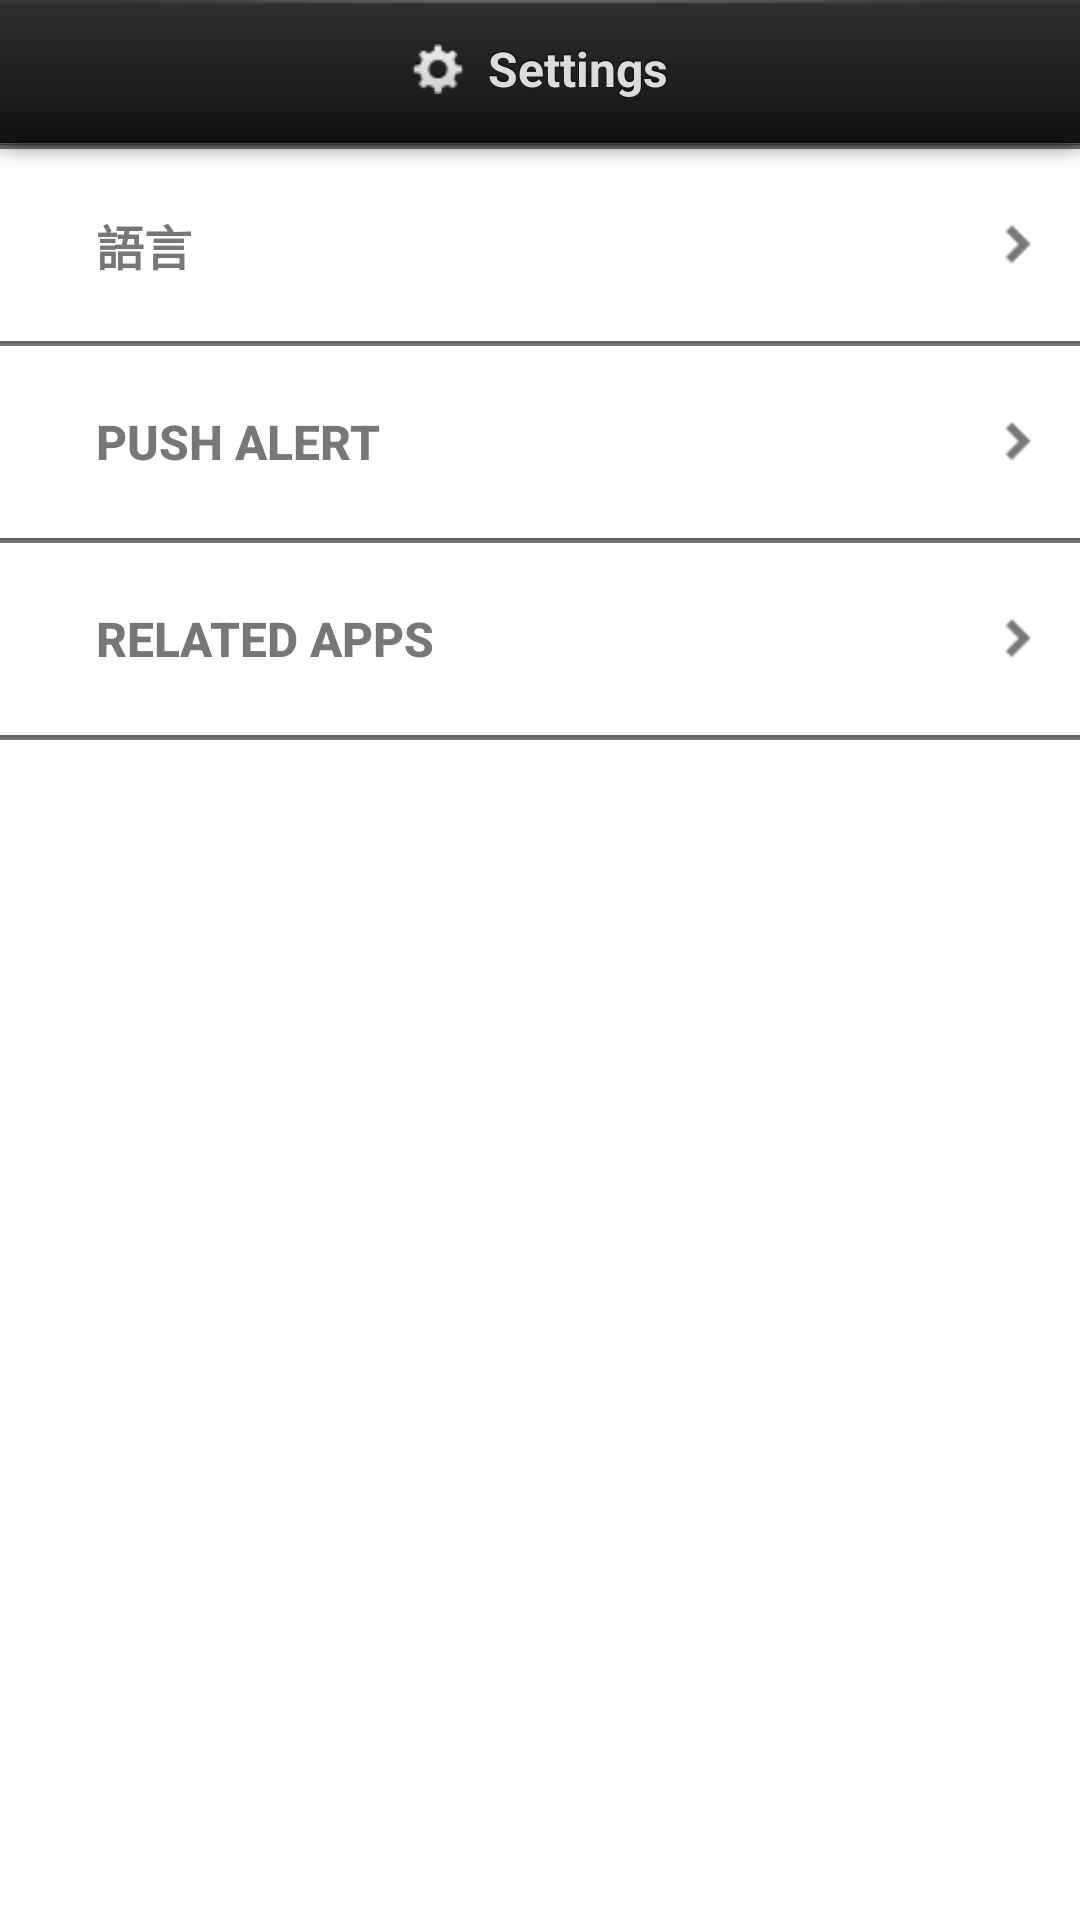

Screen size 1080x1920. Icon name, then its center in pixels as [x,y]:
setting disclosurearrow: [1018,244], [1018,441], [1018,638]
